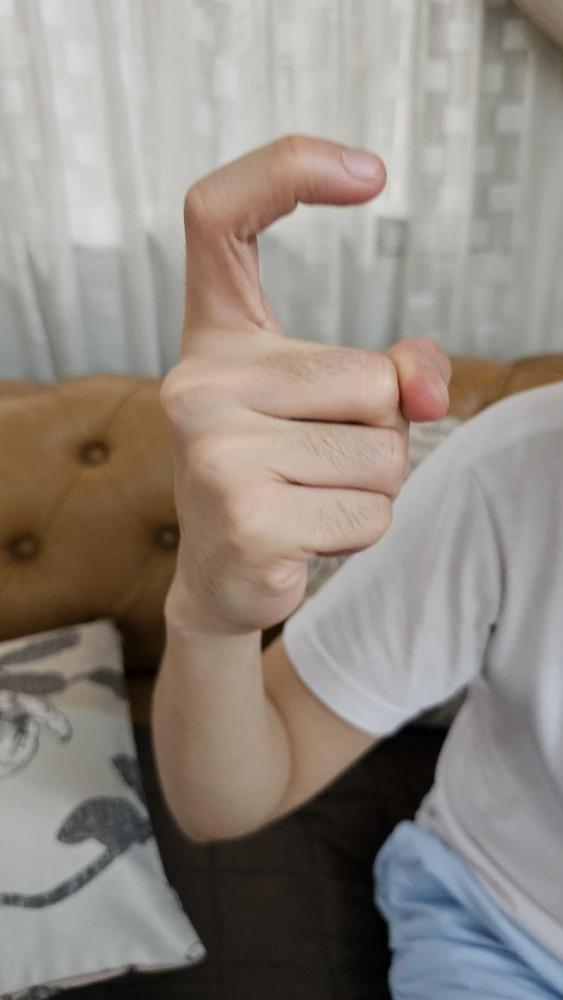x: (153, 129, 454, 636)
